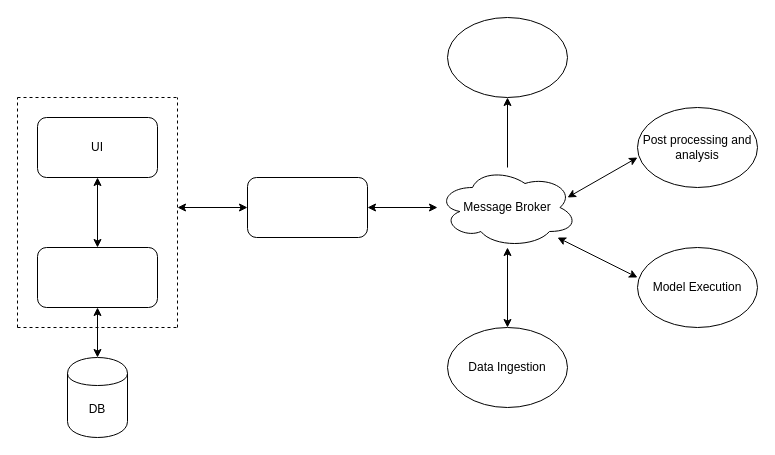
Image size: 775x455. Some labels were removed from this diagram. The shapes that lost their labels are listed below. From the top down, each one's centre as x and y in pixels, then its label:
At point 507,57: "Session Management".
At point 307,207: "API Gateway".
At point 97,277: "User Management".
